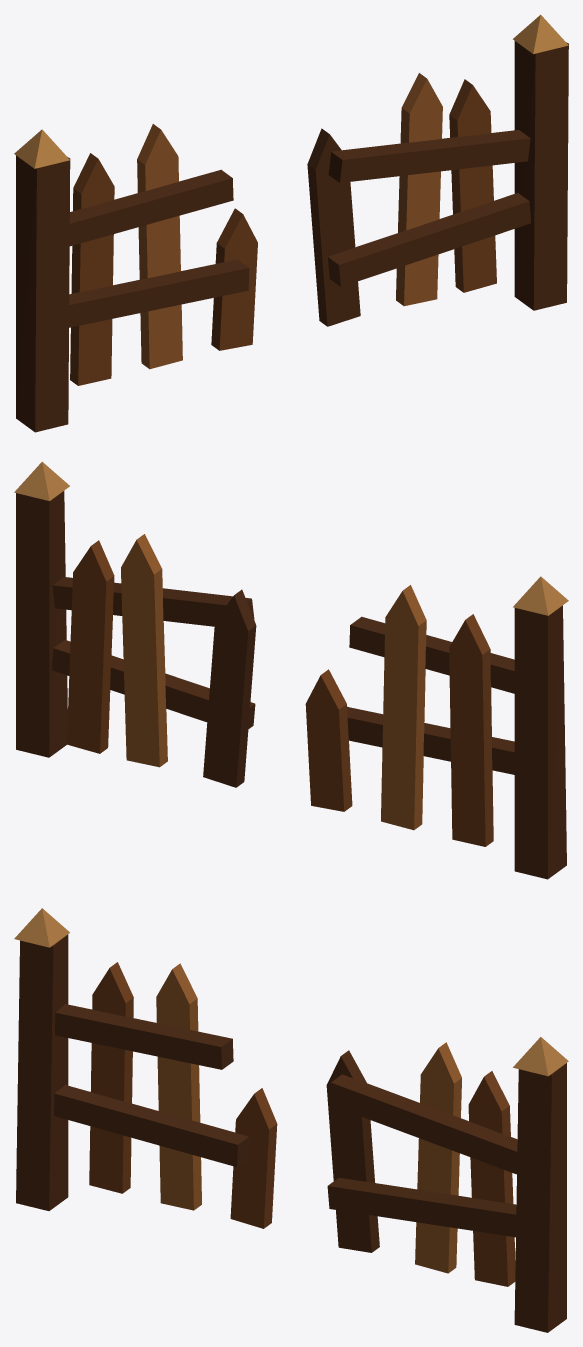
The model's file is fence_broken_3m.obj.
3 views of the same model, one above another, from view 1: azimuth 30°, elevation 25°; view 2: azimuth 150°, elevation 25°; view 3: azimuth 330°, elevation 25° (orthographic).
Visible parts, largest first — view 1: post_left_shaft, post_right_shaft, rail_low_right, picket_2, rail_high_right, picket_5, picket_1, picket_4, rail_low_left, rail_high_left, picket_6, picket_3 (+2 smaller); view 2: post_left_shaft, post_right_shaft, picket_2, picket_5, picket_1, picket_6, picket_4, picket_3, rail_high_right, rail_low_left, rail_high_left, rail_low_right (+2 smaller); view 3: post_right_shaft, post_left_shaft, picket_2, rail_high_right, rail_low_left, rail_low_right, picket_1, picket_5, rail_high_left, picket_6, picket_4, picket_3 (+2 smaller).
Boxes of the visible parts, bbox=[...] form: post_left_shaft: bbox=[16, 155, 70, 432]; post_right_shaft: bbox=[514, 41, 568, 310]; rail_low_right: bbox=[328, 193, 530, 286]; picket_2: bbox=[137, 124, 182, 369]; rail_high_right: bbox=[328, 130, 530, 182]; picket_5: bbox=[396, 73, 442, 306]; picket_1: bbox=[70, 153, 114, 385]; picket_4: bbox=[307, 128, 360, 326]; rail_low_left: bbox=[69, 259, 249, 327]; rail_high_left: bbox=[69, 169, 233, 246]; picket_6: bbox=[449, 79, 496, 292]; picket_3: bbox=[211, 208, 257, 350]; post_left_shaft: bbox=[514, 605, 566, 879]; post_right_shaft: bbox=[16, 491, 67, 757]; picket_2: bbox=[381, 585, 426, 830]; picket_5: bbox=[121, 534, 167, 767]; picket_1: bbox=[449, 614, 493, 846]; picket_6: bbox=[66, 540, 114, 753]; picket_4: bbox=[203, 589, 256, 787]; picket_3: bbox=[305, 669, 352, 811]; rail_high_right: bbox=[52, 577, 254, 626]; rail_low_left: bbox=[347, 707, 514, 774]; rail_high_left: bbox=[349, 616, 514, 693]; rail_low_right: bbox=[52, 640, 255, 729]; post_right_shaft: bbox=[514, 1063, 566, 1332]; post_left_shaft: bbox=[16, 934, 68, 1210]; picket_2: bbox=[156, 963, 201, 1210]; rail_high_right: bbox=[328, 1074, 517, 1174]; rail_low_left: bbox=[54, 1085, 248, 1167]; rail_low_right: bbox=[327, 1177, 516, 1237]; picket_1: bbox=[89, 962, 133, 1193]; picket_5: bbox=[415, 1042, 461, 1273]; rail_high_left: bbox=[55, 1004, 233, 1069]; picket_6: bbox=[468, 1071, 515, 1286]; picket_4: bbox=[326, 1050, 379, 1252]; picket_3: bbox=[230, 1088, 277, 1228].
Bounding box in the file's own units: 3.23 × 1.68 × 0.25.
